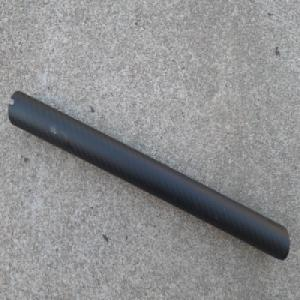LuggagePart: (6, 89, 289, 260)
